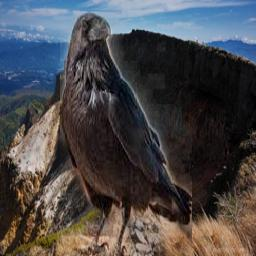Crow: (60, 11, 192, 256)
